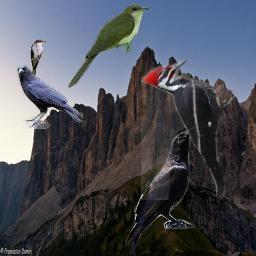Crow: (125, 126, 196, 254), (16, 65, 83, 129)
Cuckoo: (68, 4, 150, 89), (30, 39, 46, 81)
Woodpecker: (141, 59, 237, 200)
